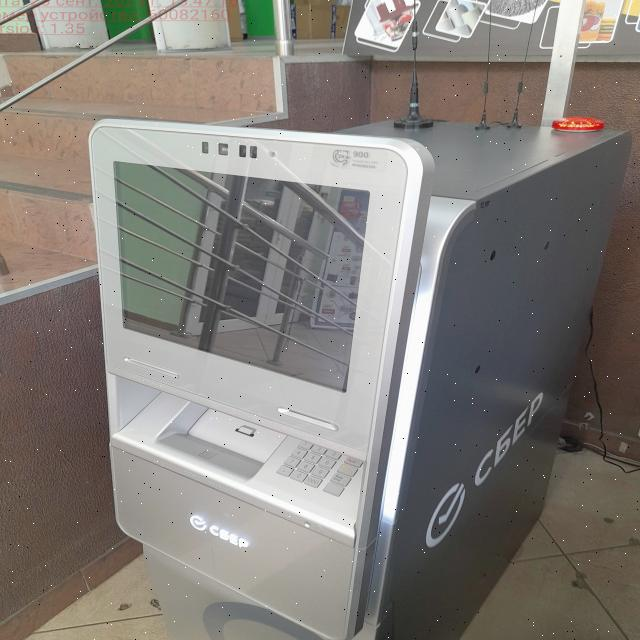bank: (91, 117, 631, 640)
